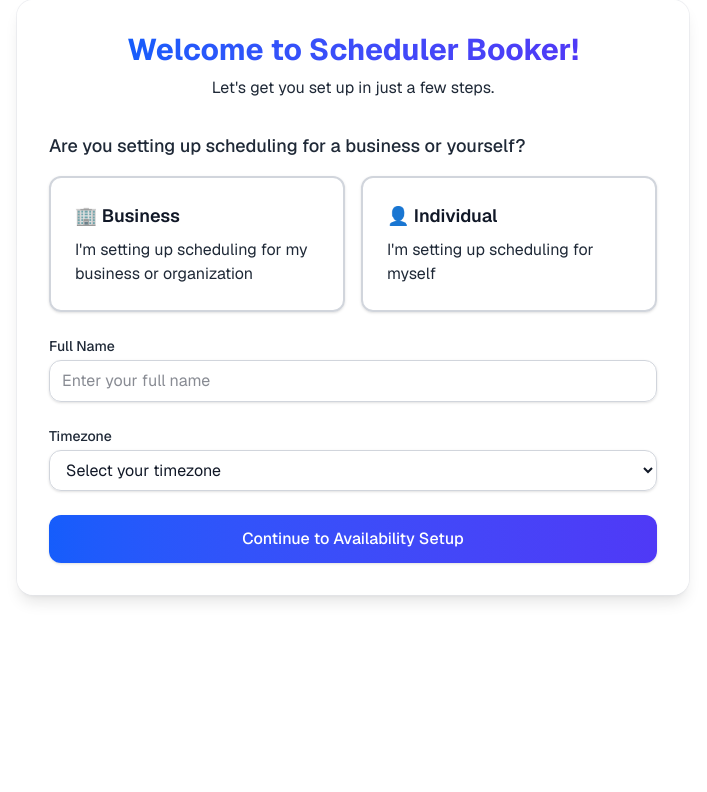
Test: OnboardingForm › allows selecting business user type
Click the button "🏢 Business": x=197, y=244 [49,176,345,312]
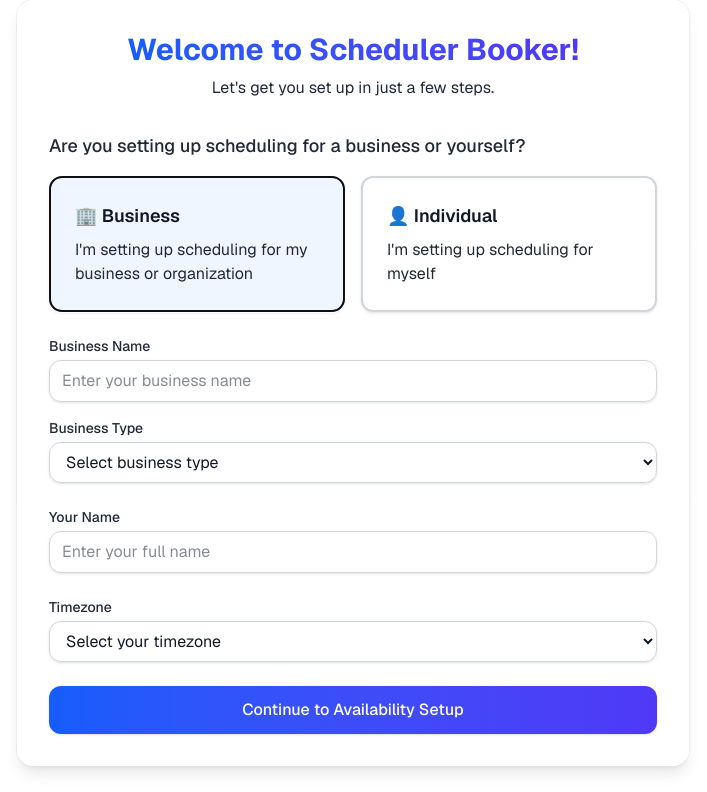
Expected: the field labelled "Business Name" is shown, [49,360,657,402]
Expected: the dropdown labelled "Business Type" is shown, [49,442,657,483]
